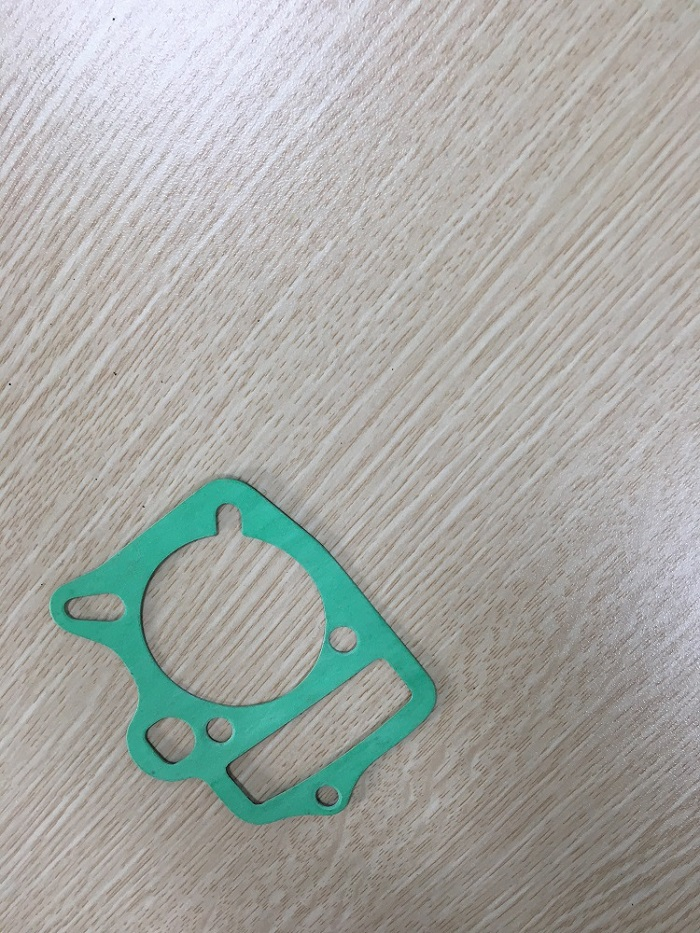circle 1: (124, 476, 334, 710)
circle 2: (139, 707, 207, 783)
circle 3: (52, 584, 136, 640)
circle 4: (316, 612, 382, 663)
circle 5: (302, 776, 352, 816)
circle 6: (219, 652, 422, 813)
object: (26, 454, 464, 866)
